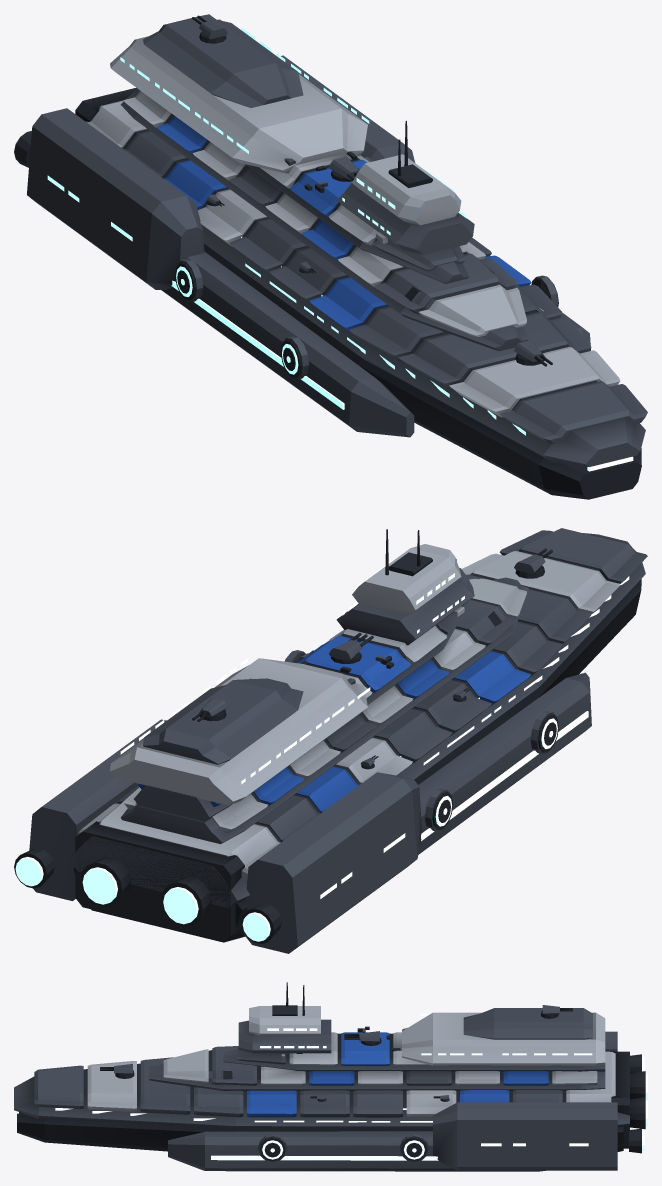
Rendered from cruiser.glb.
3 renders of one model, top to bottom at view 1: azimuth 30°, elevation 25°; view 2: azimuth 150°, elevation 25°; view 3: azimuth 270°, elevation 25°, orthographic. The views are drawn at different scales.
Parts seen in each view (by area): view 1: hull_cruiser; view 2: hull_cruiser; view 3: hull_cruiser.
Boxes of the visible parts, x1,y1,x2,y2 form: hull_cruiser: [14, 14, 647, 499]; hull_cruiser: [14, 528, 647, 953]; hull_cruiser: [14, 982, 647, 1171].
Bounding box in the file's own units: 68.49 × 54.54 × 206.
